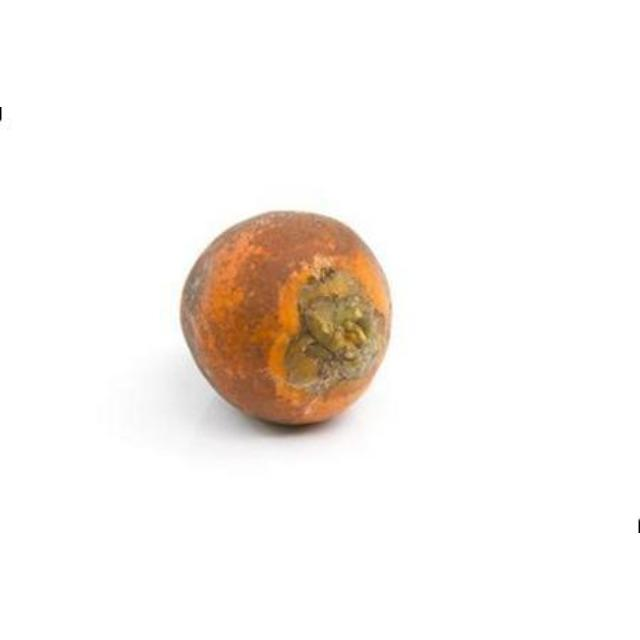good: (179, 211, 394, 427)
